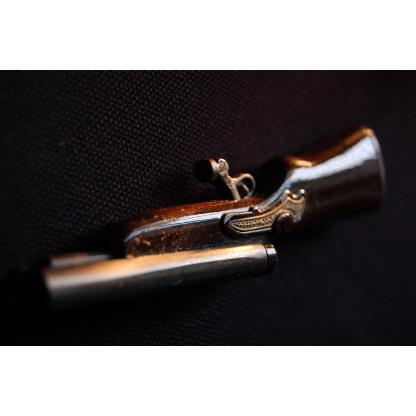gun: (45, 124, 386, 300)
